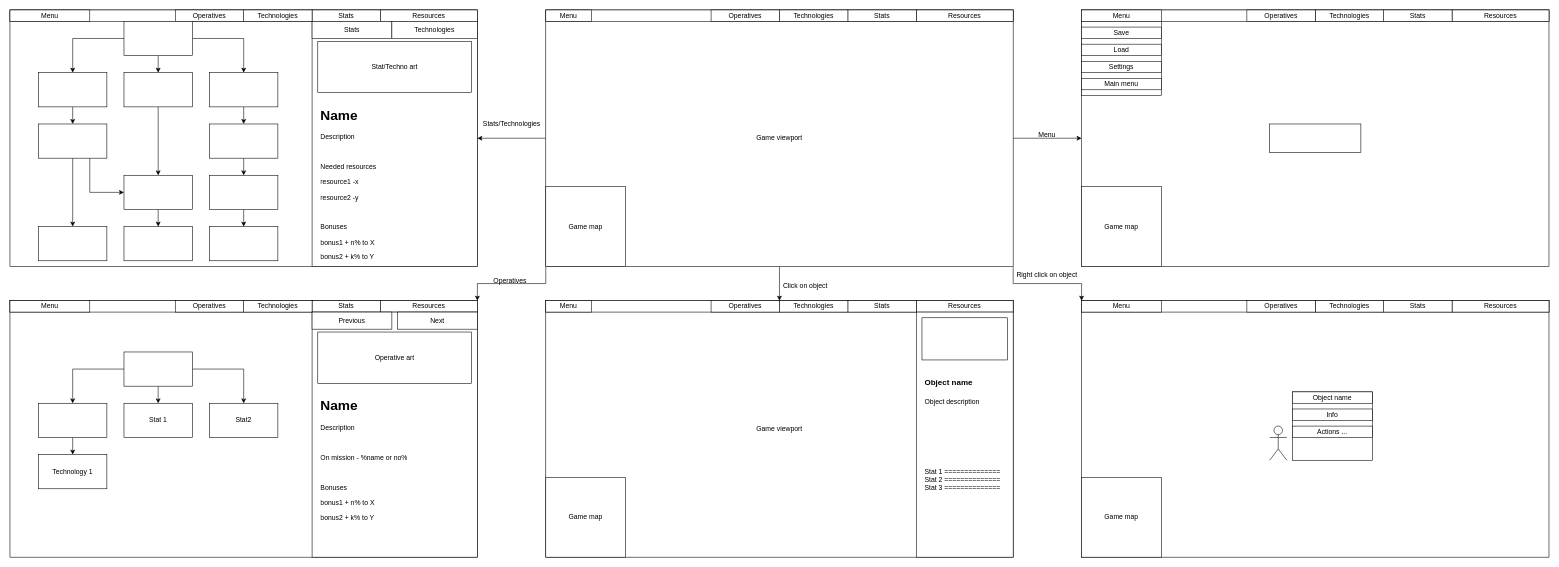
Some shapes in this 1559 by 567 pixel diagram are drawn without their labels. The box of each missing label's shape, as (x1, y1, x2, y2) in pixels:
Game paused: (1269, 123, 1361, 152)
Object: (1269, 426, 1287, 460)
Object art: (921, 317, 1007, 360)
Operative: (123, 351, 192, 386)
Stat 3: (38, 403, 107, 437)
Stats/Technology name: (123, 21, 192, 56)
